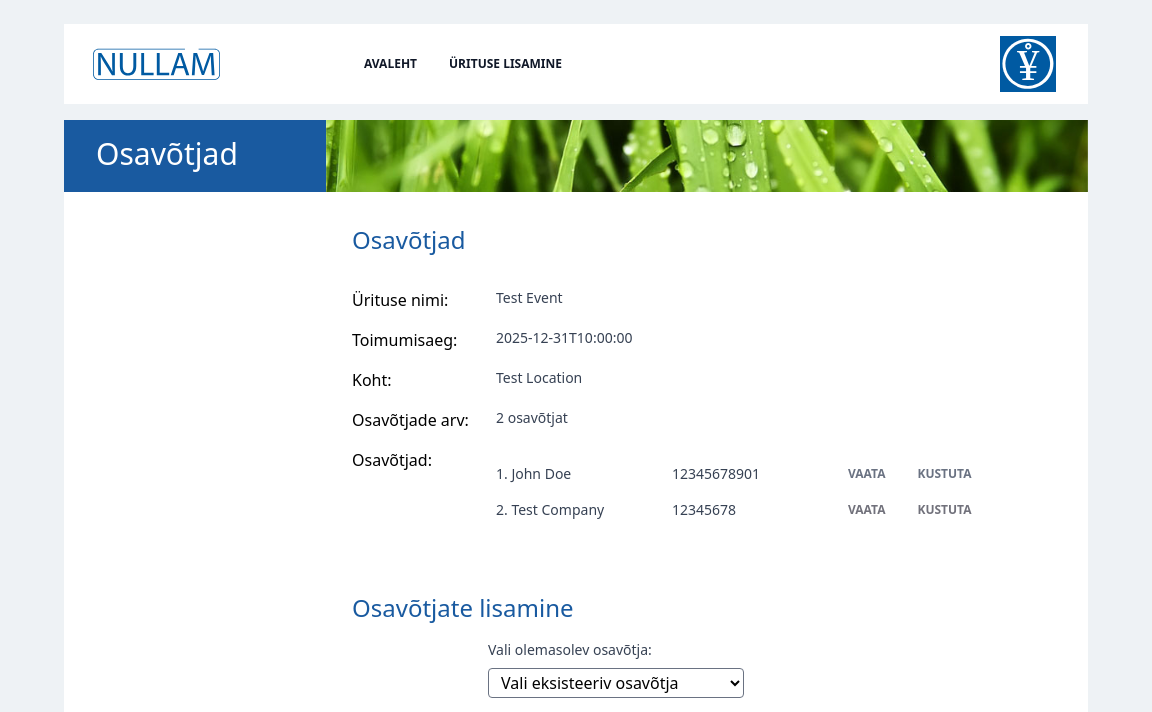
Test: Osavõtjate Interaktsioonide Testid › Olemasoleva Osavõtja Valimise Protsess › valib olemasoleva juriidilise isiku ja täidab vormi tüübi automaatselt
This screenshot has width=1152, height=712.
Select "Available Company (Ettevõte)" in the dropdown labelled "Vali olemasolev osavõtja:" at x=616, y=683, box 488,668 -> 744,698
(page scrolled)
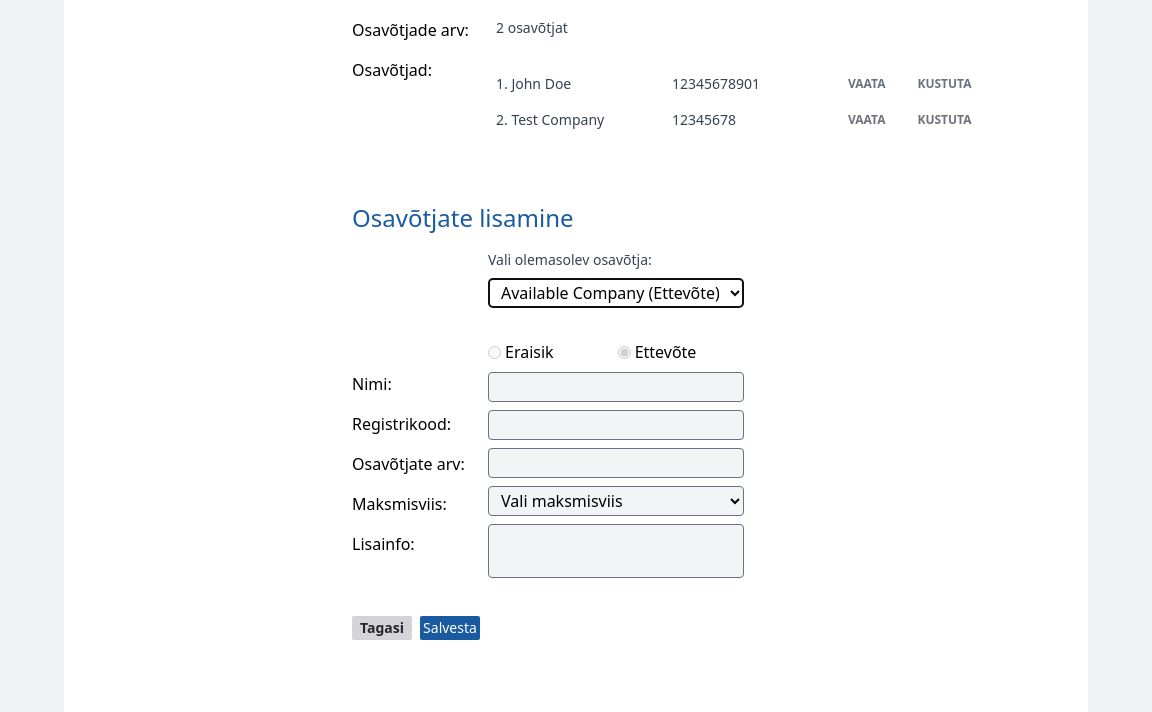
Check: the radio button labelled "Ettevõte" is checked, box 618,346 -> 631,358
Check: the radio button labelled "Eraisik" is not checked, box 488,346 -> 501,358
